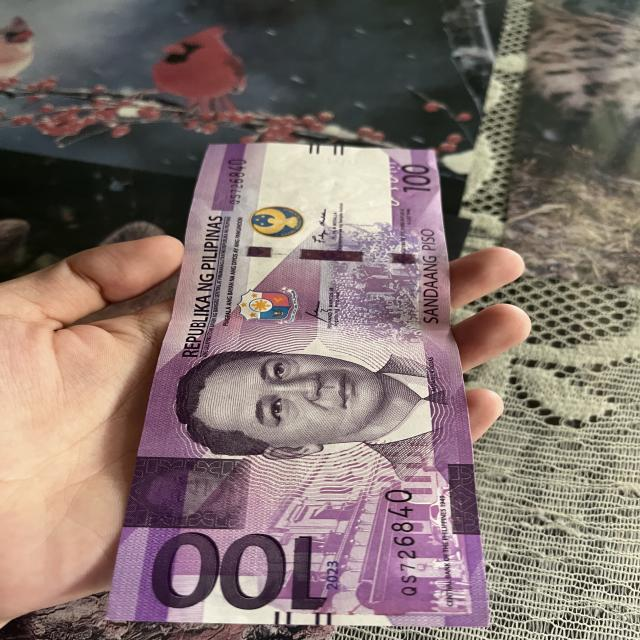concealed_value: (122, 454, 253, 530)
security_thread: (230, 241, 420, 270)
see_through_mark: (381, 154, 401, 212)
serial_number: (380, 480, 426, 609), (219, 154, 251, 208)
value: (152, 528, 330, 617)
watermark: (249, 153, 385, 220)
